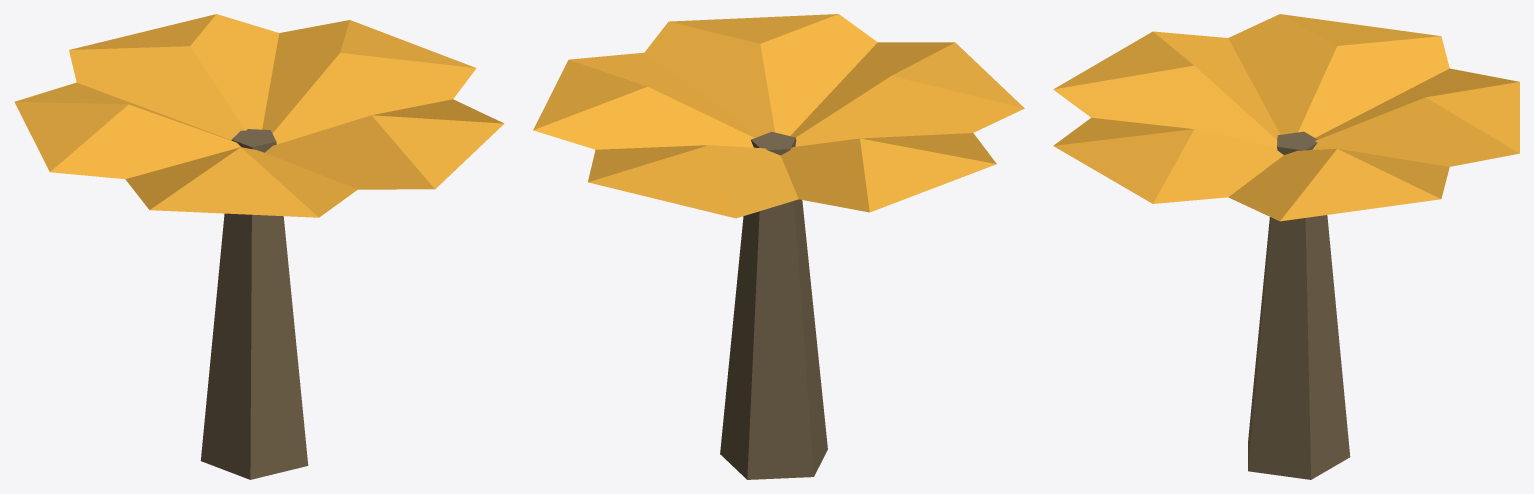
The model's file is flower.glb.
The picture shows the model from 3 angles, left to right: view 1: azimuth 30°, elevation 25°; view 2: azimuth 150°, elevation 25°; view 3: azimuth 270°, elevation 25°; orthographic projection.
Parts seen in each view (by area): view 1: petal.001, stem; view 2: petal.001, stem; view 3: petal.001, stem.
Part boxes in pixels (x1,y1,x2,y2): petal.001: (14,14,504,217); stem: (200,129,308,479); petal.001: (533,14,1024,218); stem: (720,131,827,479); petal.001: (1053,14,1519,221); stem: (1248,131,1350,479).
Size of the model in its own units: 0.0228 by 0.0184 by 0.0216.
